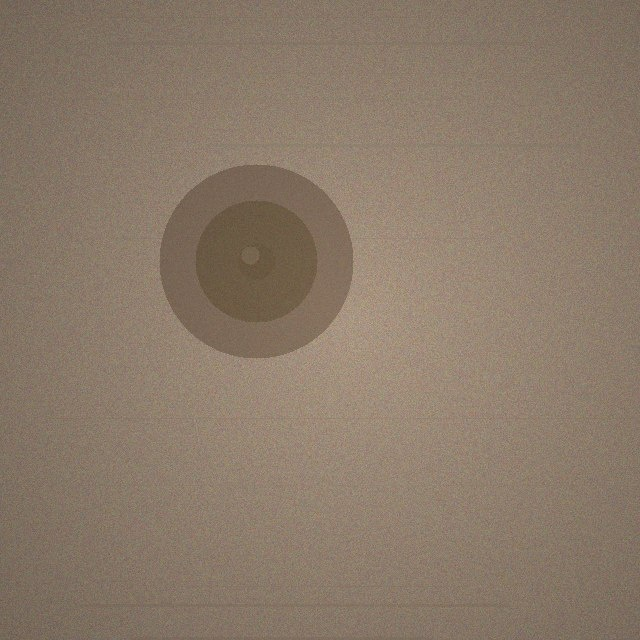good: (159, 164, 353, 358)
